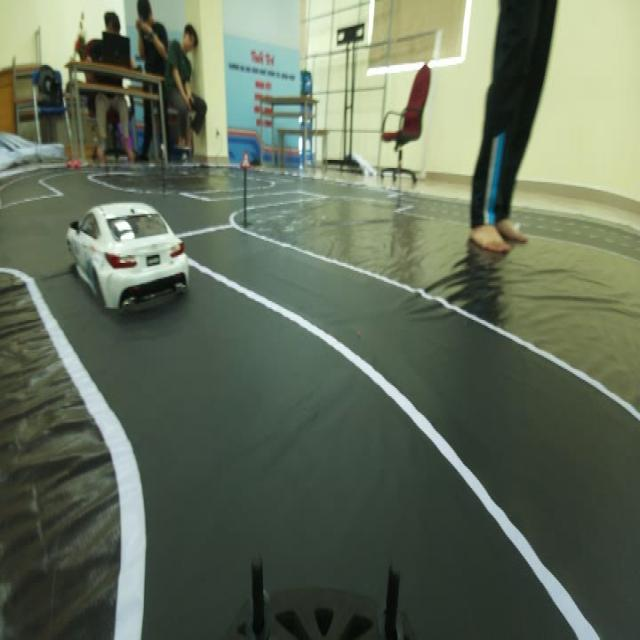car: (51, 190, 198, 323)
